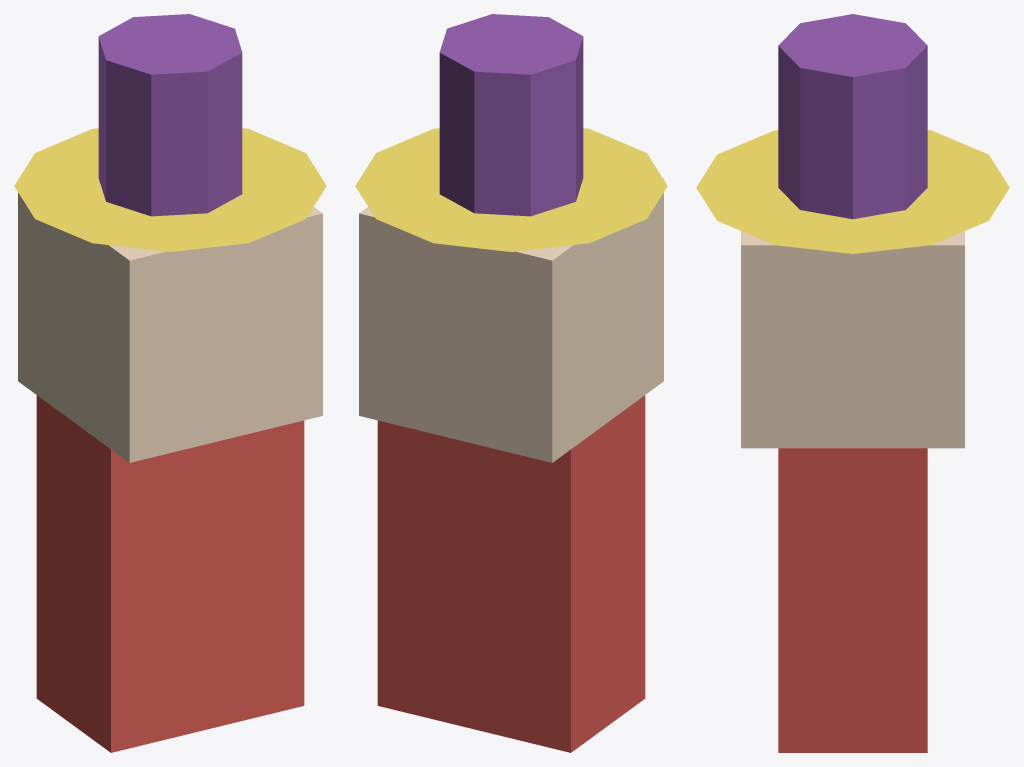
File: figures.gltf
3 views of the same model, side by side, from view 1: azimuth 30°, elevation 25°; view 2: azimuth 150°, elevation 25°; view 3: azimuth 270°, elevation 25° (orthographic).
Visible parts, largest first — view 1: Body_Red, Head_Square, Hat_Top, Hat_Cap; view 2: Body_Red, Head_Square, Hat_Top, Hat_Cap; view 3: Body_Red, Head_Square, Hat_Top, Hat_Cap.
Boxes of the visible parts, x1,y1,x2,y2 form: Body_Red: (36, 395, 304, 752); Head_Square: (18, 179, 322, 462); Hat_Top: (98, 14, 242, 216); Hat_Cap: (14, 128, 326, 251); Body_Red: (377, 395, 645, 752); Head_Square: (359, 179, 663, 462); Hat_Top: (439, 14, 583, 216); Hat_Cap: (355, 128, 667, 251); Body_Red: (778, 448, 927, 752); Head_Square: (741, 231, 964, 448); Hat_Top: (778, 14, 927, 219); Hat_Cap: (696, 130, 1009, 253).
Bounding box in the file's own units: 0.84 × 1.95 × 0.84.
